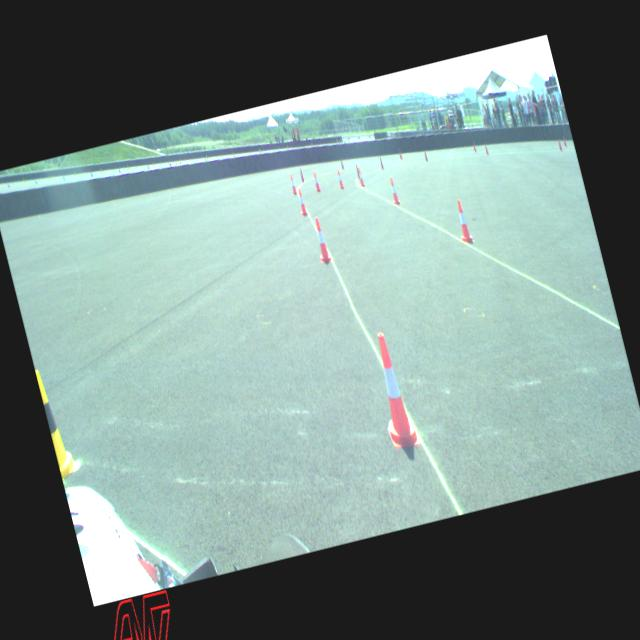orange_cone: (364, 330, 420, 451), (310, 216, 332, 264), (452, 198, 473, 244), (387, 176, 400, 205), (296, 187, 308, 216), (288, 174, 297, 194), (312, 172, 321, 192), (336, 168, 344, 188), (356, 166, 364, 186)
yellow_cone: (35, 366, 77, 478)
